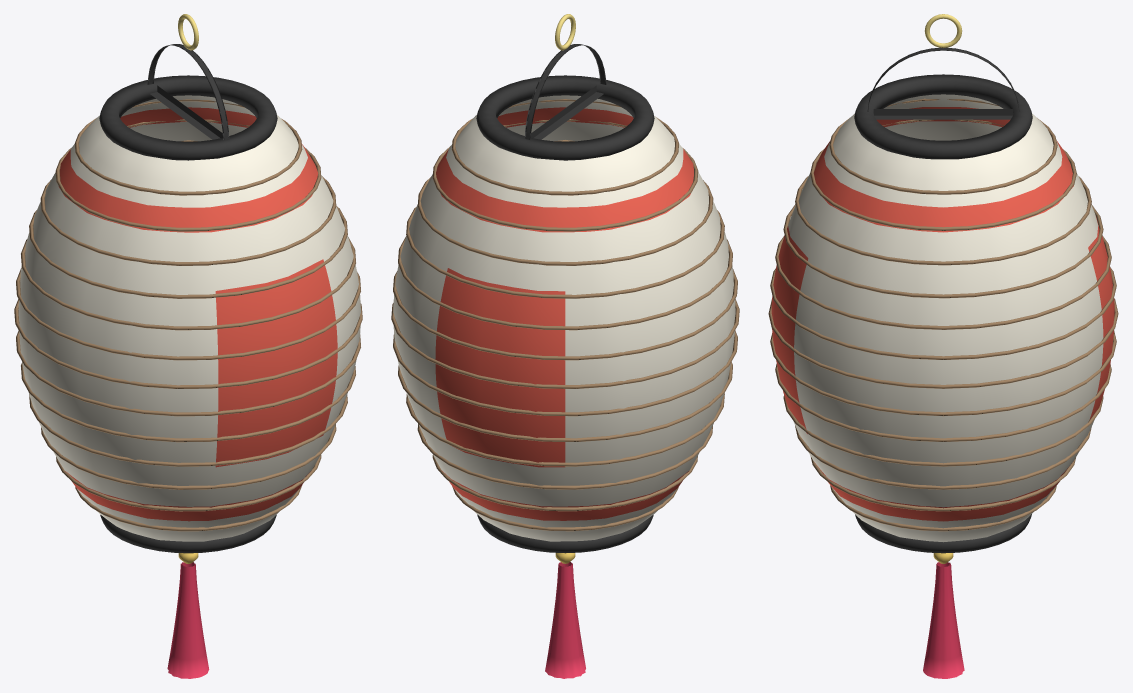
File: craft_chochin.glb
The picture shows the model from 3 angles, left to right: view 1: azimuth 30°, elevation 25°; view 2: azimuth 150°, elevation 25°; view 3: azimuth 270°, elevation 25°; orthographic projection.
Parts seen in each view (by area): view 1: Chochin_PaperBody, Chochin_BambooRibs, Chochin_TopCollar, Chochin_SilkTassel, Chochin_BottomCollar, Chochin_ArchHandle, Chochin_TopCrossBar; view 2: Chochin_PaperBody, Chochin_BambooRibs, Chochin_TopCollar, Chochin_SilkTassel, Chochin_BottomCollar, Chochin_ArchHandle, Chochin_TopCrossBar; view 3: Chochin_PaperBody, Chochin_BambooRibs, Chochin_TopCollar, Chochin_SilkTassel, Chochin_BottomCollar, Chochin_TopCrossBar, Chochin_ArchHandle.
Part boxes in pixels (left/top/right/bottom): Chochin_PaperBody: left=18, top=95, right=360, bottom=541; Chochin_BambooRibs: left=14, top=99, right=362, bottom=531; Chochin_TopCollar: left=99, top=75, right=277, bottom=160; Chochin_SilkTassel: left=167, top=562, right=209, bottom=678; Chochin_BottomCollar: left=100, top=515, right=276, bottom=553; Chochin_ArchHandle: left=147, top=44, right=229, bottom=140; Chochin_TopCrossBar: left=150, top=85, right=222, bottom=139; Chochin_PaperBody: left=393, top=95, right=735, bottom=541; Chochin_BambooRibs: left=391, top=99, right=739, bottom=531; Chochin_TopCollar: left=476, top=75, right=654, bottom=160; Chochin_SilkTassel: left=545, top=562, right=585, bottom=678; Chochin_BottomCollar: left=477, top=514, right=653, bottom=553; Chochin_ArchHandle: left=524, top=44, right=606, bottom=140; Chochin_TopCrossBar: left=531, top=85, right=603, bottom=139; Chochin_PaperBody: left=771, top=94, right=1114, bottom=542; Chochin_BambooRibs: left=768, top=98, right=1118, bottom=531; Chochin_TopCollar: left=854, top=74, right=1032, bottom=159; Chochin_SilkTassel: left=923, top=562, right=964, bottom=678; Chochin_BottomCollar: left=855, top=514, right=1031, bottom=553; Chochin_TopCrossBar: left=873, top=109, right=1013, bottom=119; Chochin_ArchHandle: left=867, top=47, right=1019, bottom=111.
Size of the model in its own units: 0.9427 by 1.95 by 0.9427.
